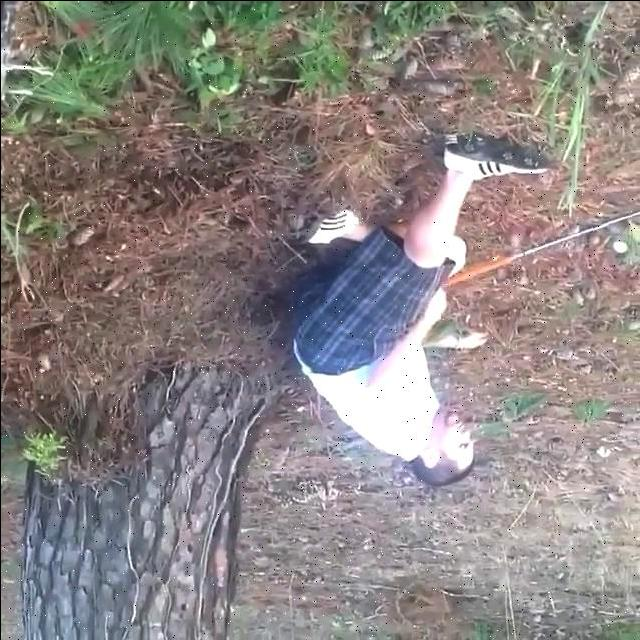golf ball: (612, 241, 625, 252)
golf club-handle: (445, 209, 640, 287)
